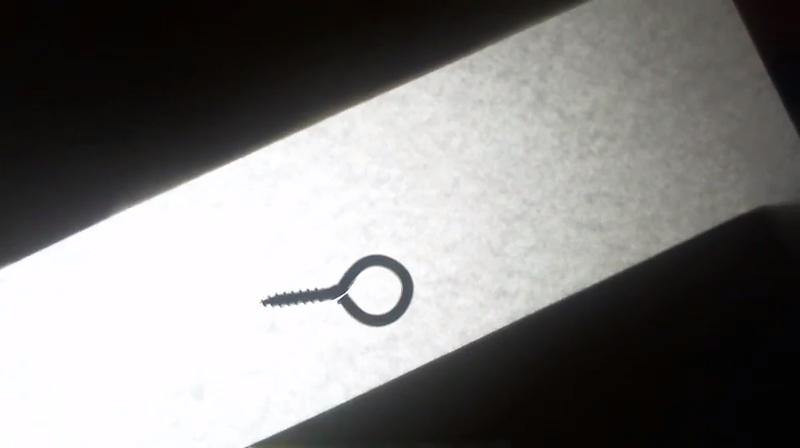O001: (254, 251, 420, 329)
